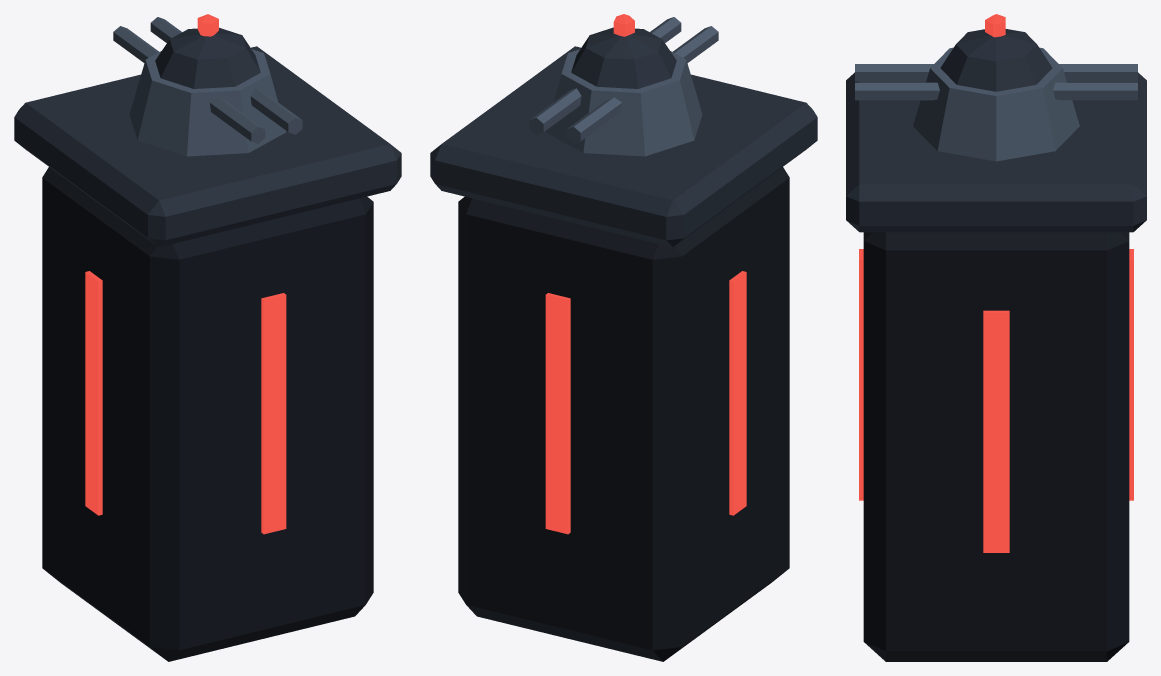
File: Mono_Bastion.fbx
3 renders of one model, left to right at view 1: azimuth 30°, elevation 25°; view 2: azimuth 150°, elevation 25°; view 3: azimuth 270°, elevation 25°, orthographic. The views are drawn at different scales.
Parts seen in each view (by area): view 1: Mono_Bastion; view 2: Mono_Bastion; view 3: Mono_Bastion.
Boxes of the visible parts, x1,y1,x2,y2 form: Mono_Bastion: [14, 14, 401, 661]; Mono_Bastion: [430, 14, 817, 661]; Mono_Bastion: [846, 14, 1146, 661].
Bounding box in the file's own units: 6.8 × 6.8 × 15.
